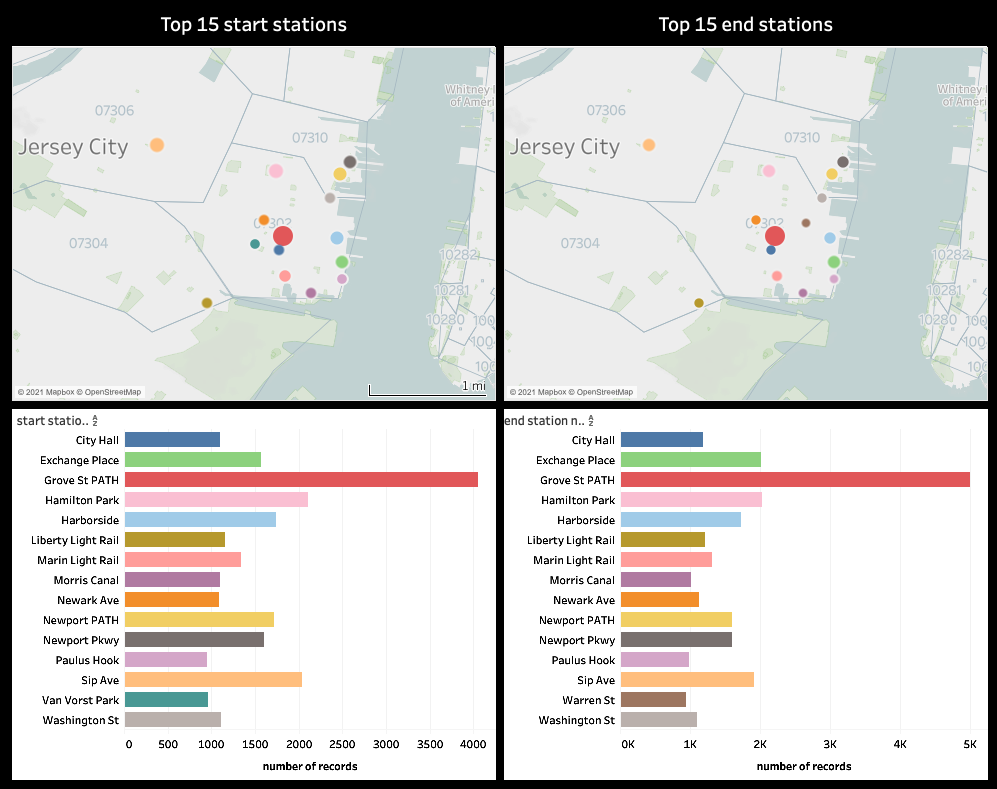

Layout of this report page (visuals, bound fields, positions):
{"tool":"tableau","page":{"name":"Map top","canvas":[1000,800],"ordinal":1},"visuals":[{"type":"worksheet","box":[0,0,1000,800]},{"type":"worksheet","param":"horz","box":[8,8,984,784]},{"type":"worksheet","box":[8,8,984,784]},{"type":"worksheet","param":"horz","box":[8,8,492,784]},{"type":"worksheet","box":[8,8,492,784]},{"type":"worksheet","param":"vert","box":[8,8,492,403]},{"type":"worksheet","title":"start station map","mark":"Automatic","rows":["start station latitude"],"cols":["start station longitude"],"box":[8,8,492,403]},{"type":"worksheet","box":[500,8,492,784]},{"type":"worksheet","box":[500,8,492,784]},{"type":"worksheet","param":"vert","box":[500,8,492,403]},{"type":"worksheet","title":"end station map","mark":"Automatic","rows":["end station latitude"],"cols":["end station longitude"],"box":[500,8,492,403]},{"type":"worksheet","param":"vert","box":[8,411,492,381]},{"type":"worksheet","param":"vert","box":[8,411,492,379]},{"type":"worksheet","title":"popular start statn","mark":"Bar","rows":["start station name"],"cols":["Calculation_1009580400846733312"],"box":[8,411,492,379]},{"type":"worksheet","param":"vert","box":[500,411,492,381]},{"type":"worksheet","title":"popular end statn","mark":"Automatic","rows":["end station name"],"cols":["Calculation_1009580400846733312"],"box":[500,411,492,379]}]}

Visuals, with their boxes in screenshot pixels (x1, y1, x2, y2), scaled from the page's 1000x800 canvas onto the 997x789 screenshot:
worksheet: 0, 0, 996, 788
worksheet: 8, 8, 989, 781
worksheet: 8, 8, 989, 781
worksheet: 8, 8, 498, 781
worksheet: 8, 8, 498, 781
worksheet: 8, 8, 498, 405
"start station map" worksheet: 8, 8, 498, 405
worksheet: 498, 8, 989, 781
worksheet: 498, 8, 989, 781
worksheet: 498, 8, 989, 405
"end station map" worksheet: 498, 8, 989, 405
worksheet: 8, 405, 498, 781
worksheet: 8, 405, 498, 779
"popular start statn" worksheet (Bar marks): 8, 405, 498, 779
worksheet: 498, 405, 989, 781
"popular end statn" worksheet: 498, 405, 989, 779
